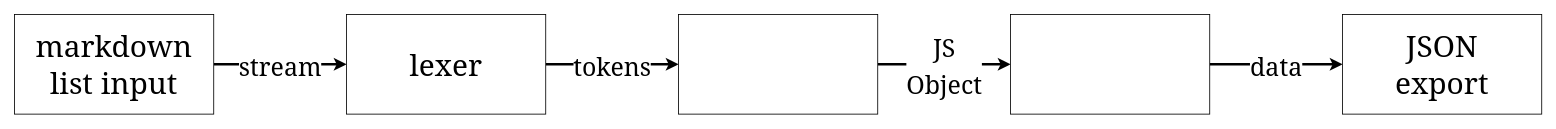
Some shapes in this 1556 by 129 pixel diagram are drawn without their labels. Each missing label, with the box of its shape:
jayson-db interface: (1010, 14, 1210, 114)
parser: (678, 14, 878, 114)
